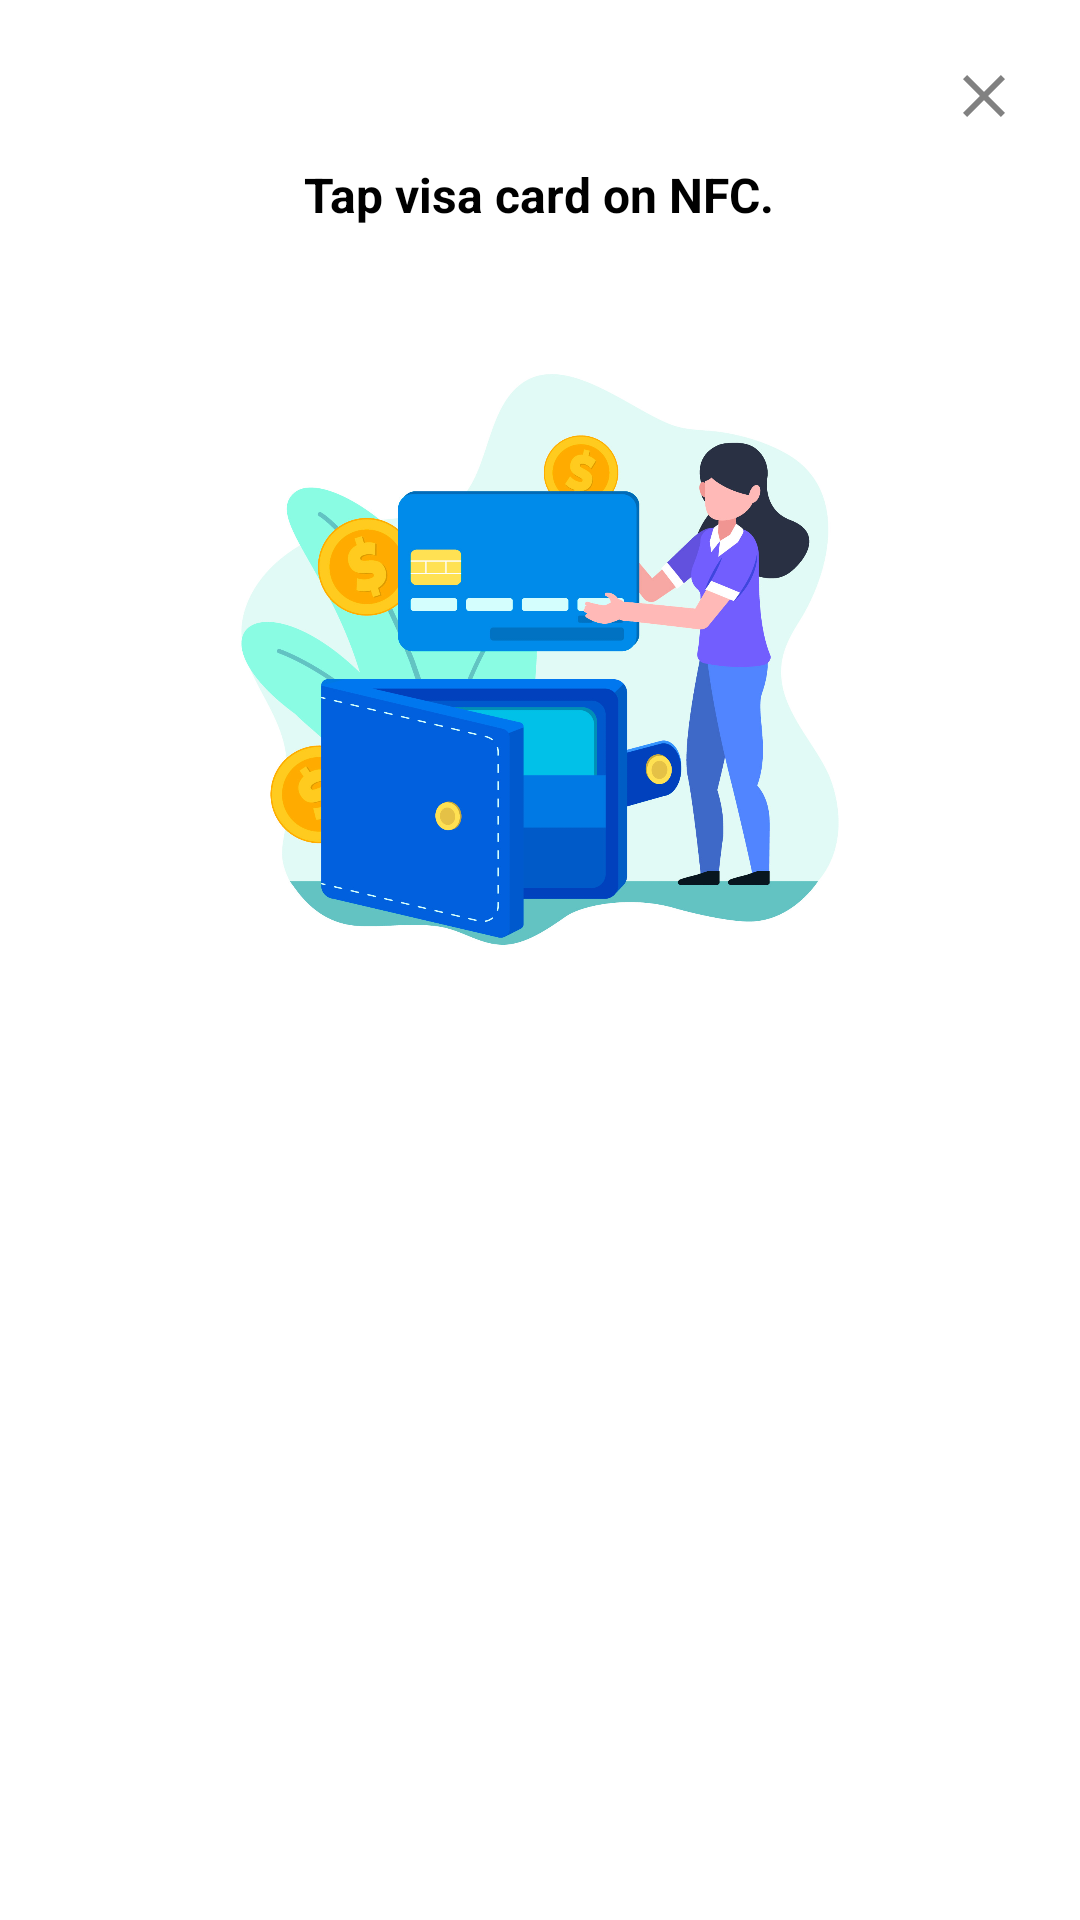

Named icons in this screenshot (1080×1920) and their bounding boxes, detection(x1, y1, x2, y2):
clear: detection(963, 75, 1005, 117)
